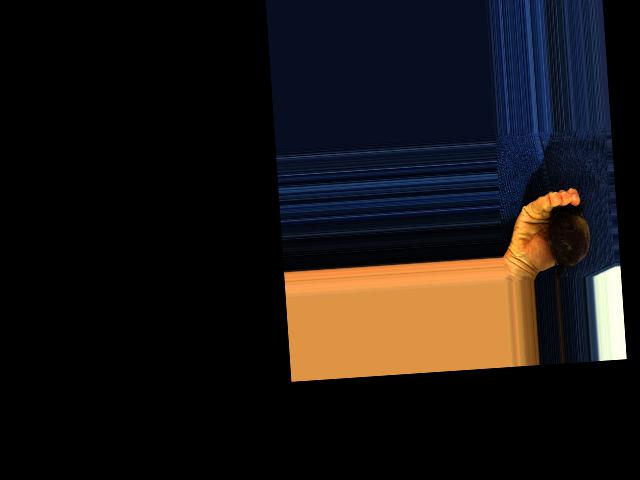beet: (544, 198, 592, 279)
